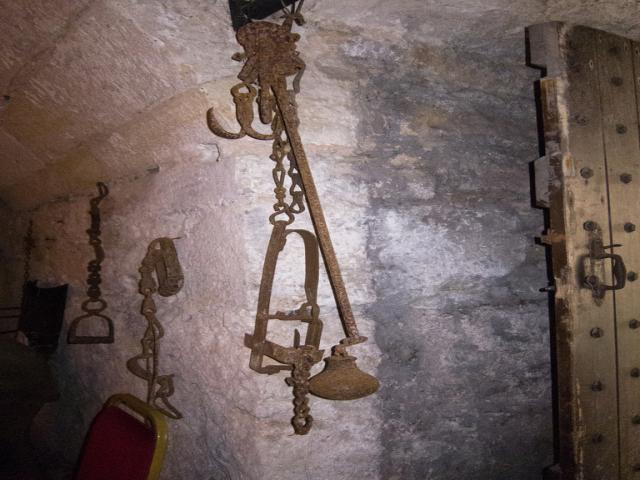Door-handle: (579, 232, 622, 304)
